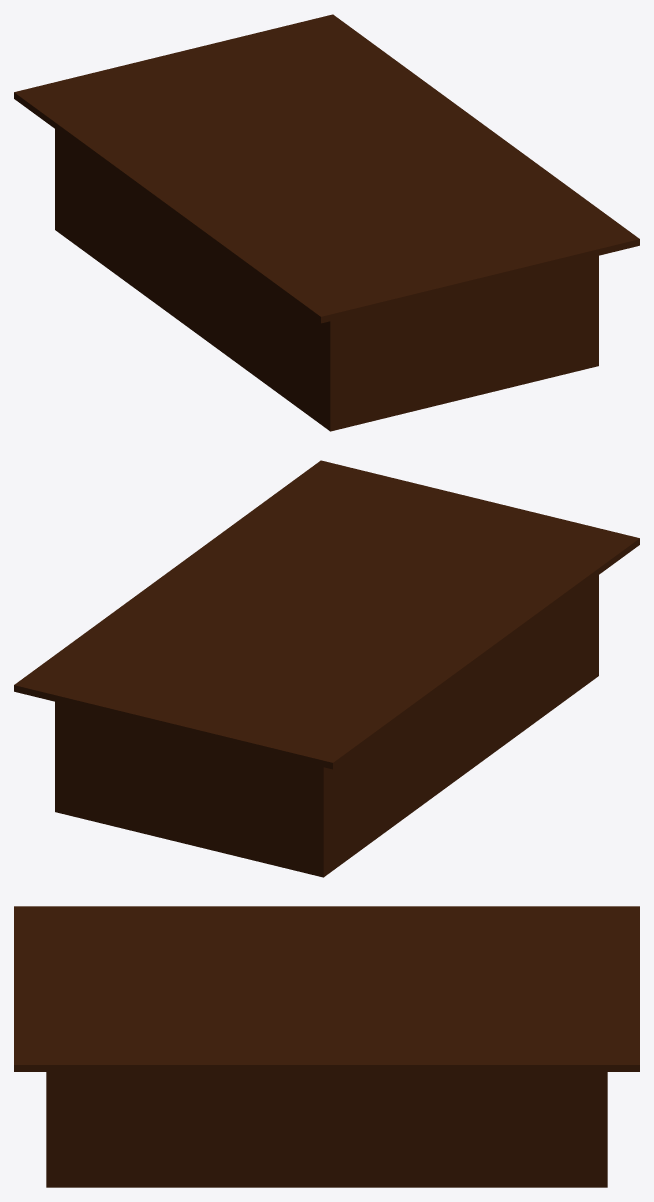
The model's file is principal's Table.fbx.
The picture shows the model from 3 angles, top to bottom: view 1: azimuth 30°, elevation 25°; view 2: azimuth 150°, elevation 25°; view 3: azimuth 270°, elevation 25°; orthographic projection.
Visible parts, largest first — view 1: Cube.001, Cube; view 2: Cube.001, Cube; view 3: Cube.001, Cube.
Part boxes in pixels (x1,y1,x2,y2): Cube.001: (14, 14, 639, 323); Cube: (55, 129, 598, 431); Cube.001: (14, 460, 639, 769); Cube: (55, 575, 598, 877); Cube.001: (14, 906, 639, 1071); Cube: (46, 1072, 607, 1187).
Bounding box in the file's own units: 575 × 228 × 959.
